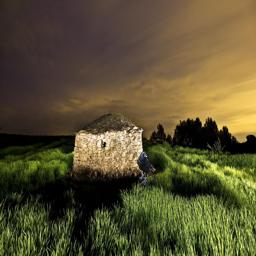Crow: (137, 150, 156, 185)
